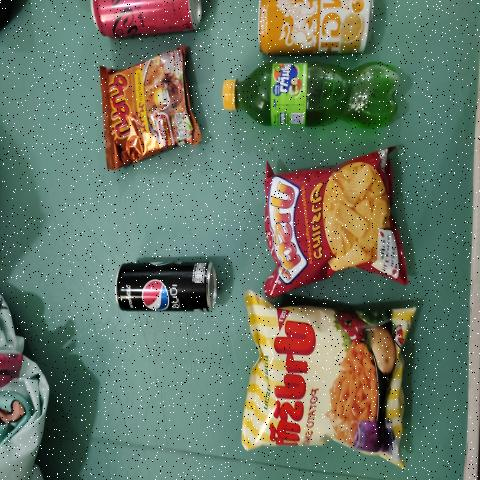fanta_green: (220, 53, 403, 123)
mama: (103, 50, 189, 168)
paprika: (251, 312, 396, 446)
party_red: (276, 167, 389, 284)
pepsi_black: (118, 265, 212, 309)
singha_yellow: (258, 0, 374, 51)
